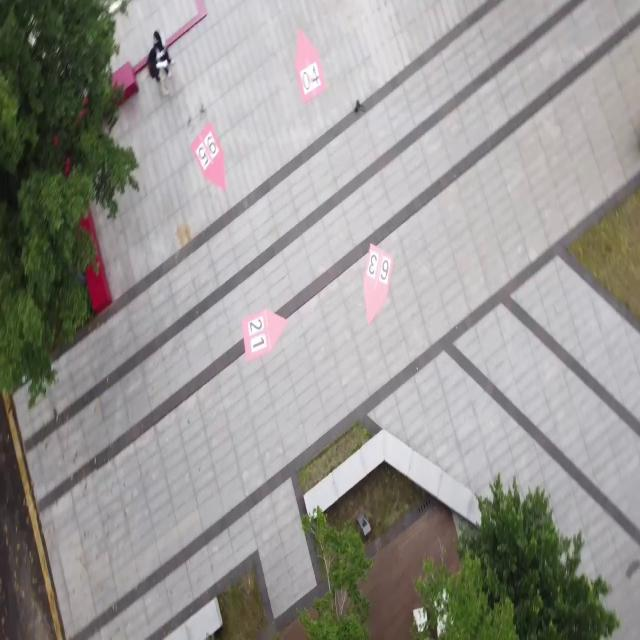-sign-: (363, 242, 393, 324), (242, 308, 286, 363), (295, 27, 326, 104), (192, 121, 226, 190)
